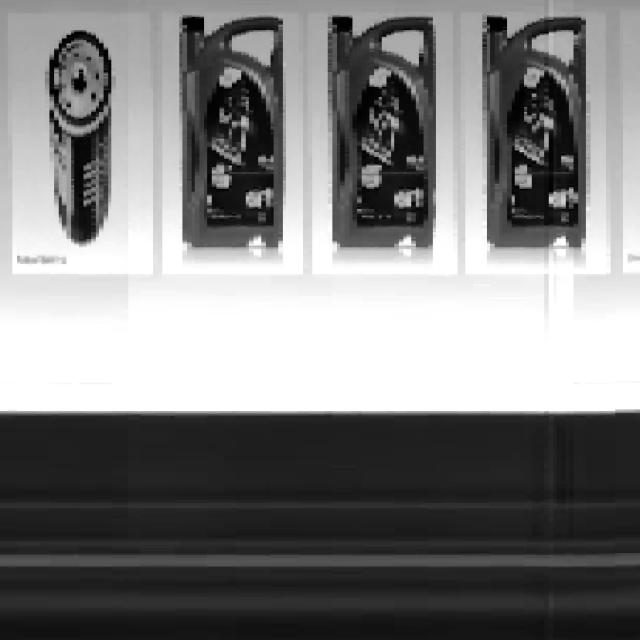motor_oil: (175, 8, 293, 258), (324, 11, 445, 250), (478, 12, 594, 254)
oil_filter: (42, 30, 118, 252)
